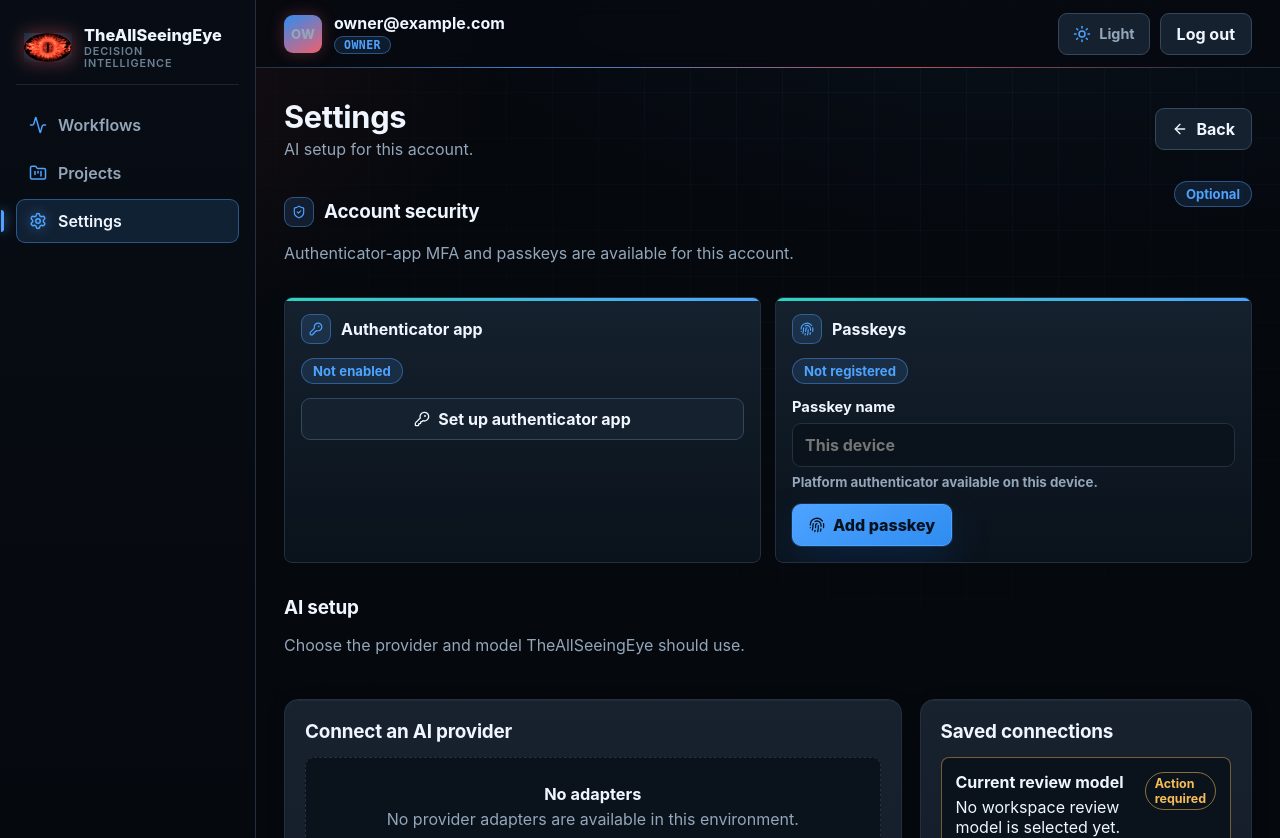
Test: MFA passkeys › surfaces fallback passkey errors
This screenshot has width=1280, height=838.
Click the button "Add passkey". click: coordinates (872, 525)
box: [792, 504, 952, 546]
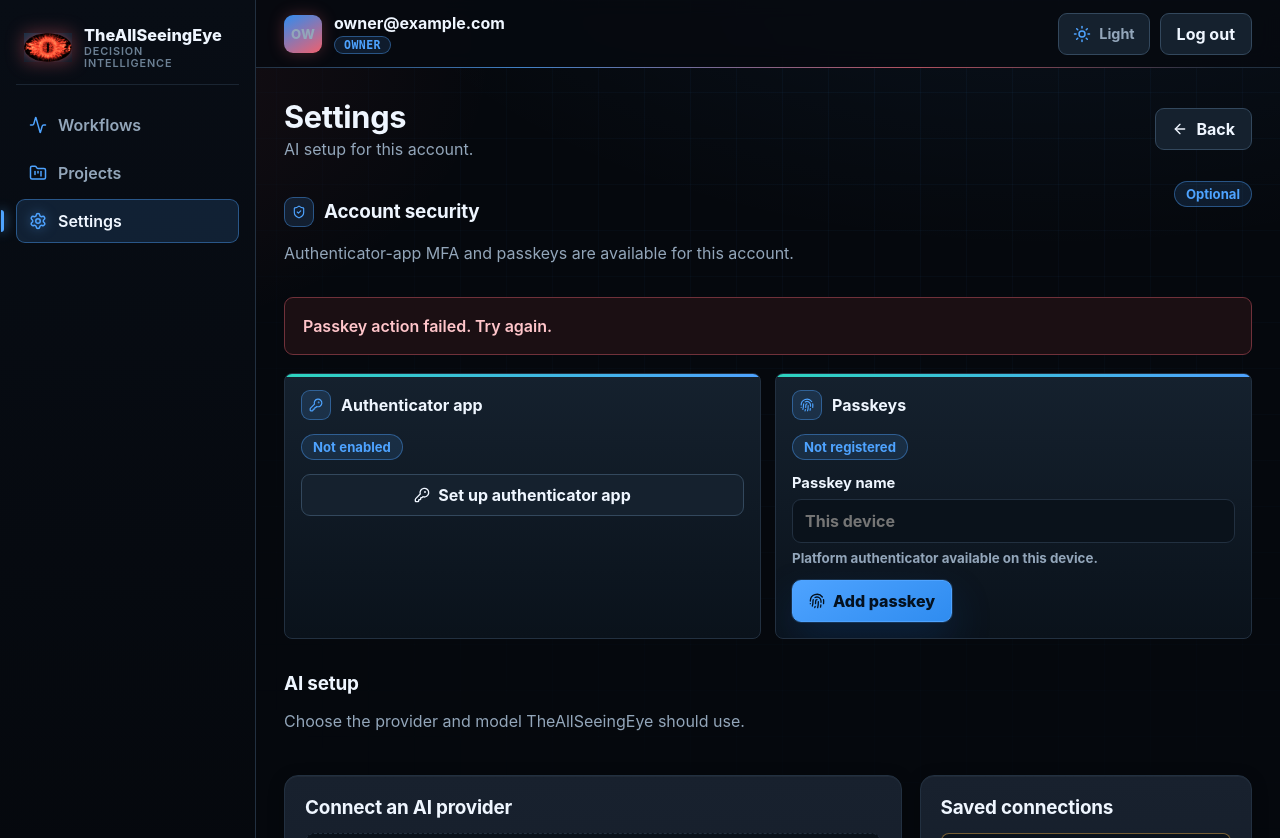
Expected: the message "Passkey action failed. Try again." is shown, [284, 297, 1252, 355]
